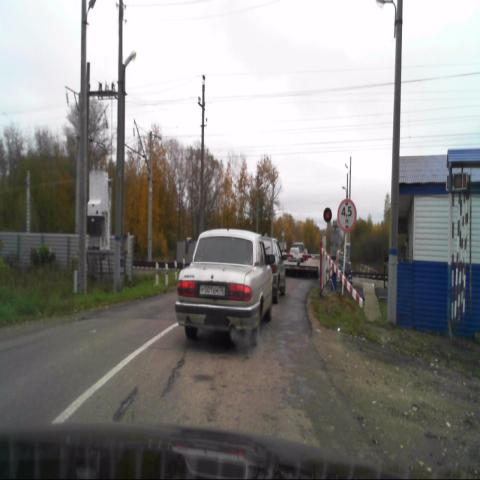3_13: (338, 196, 356, 230)
